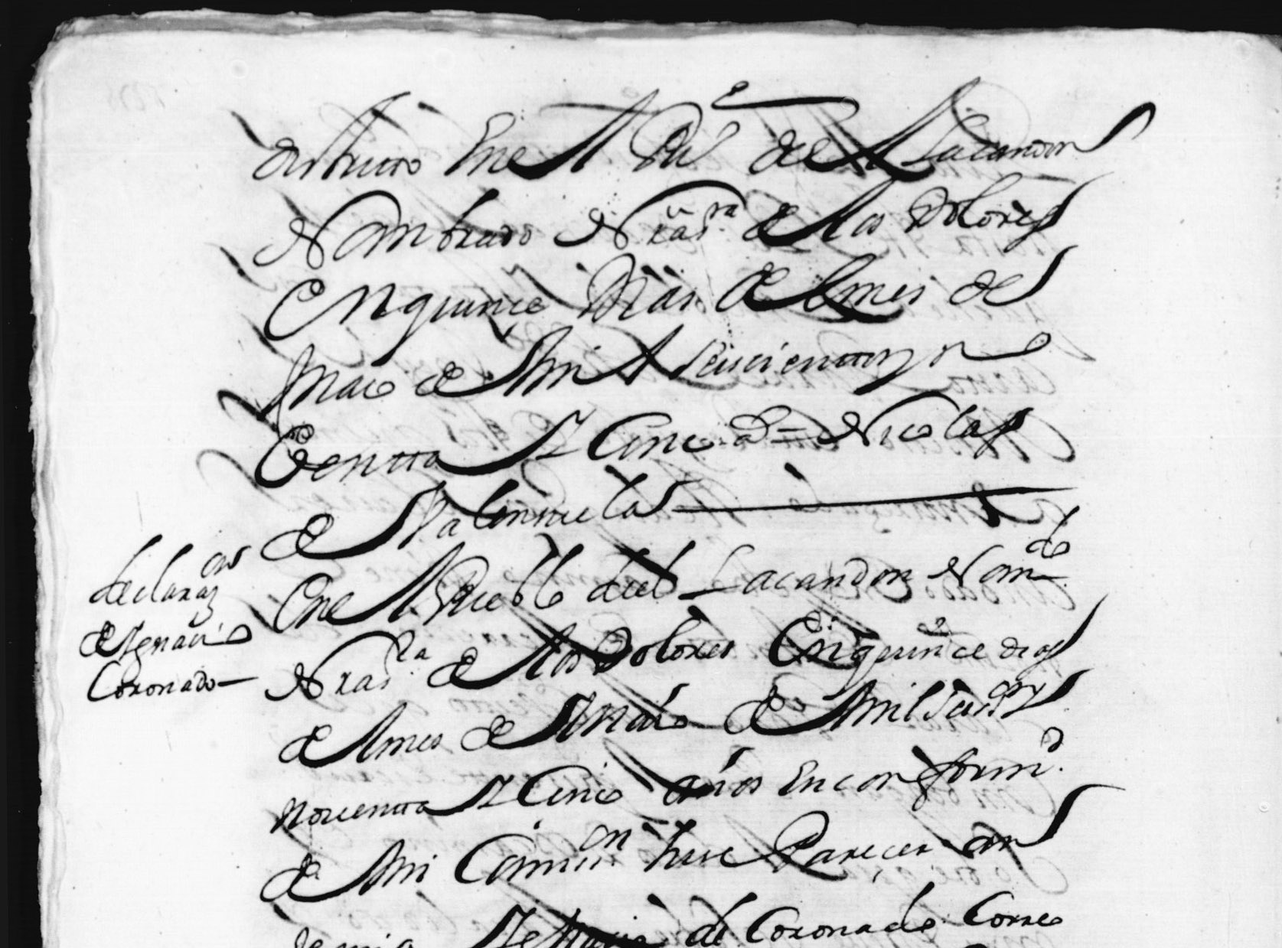lacandon: (677, 544, 912, 599)
